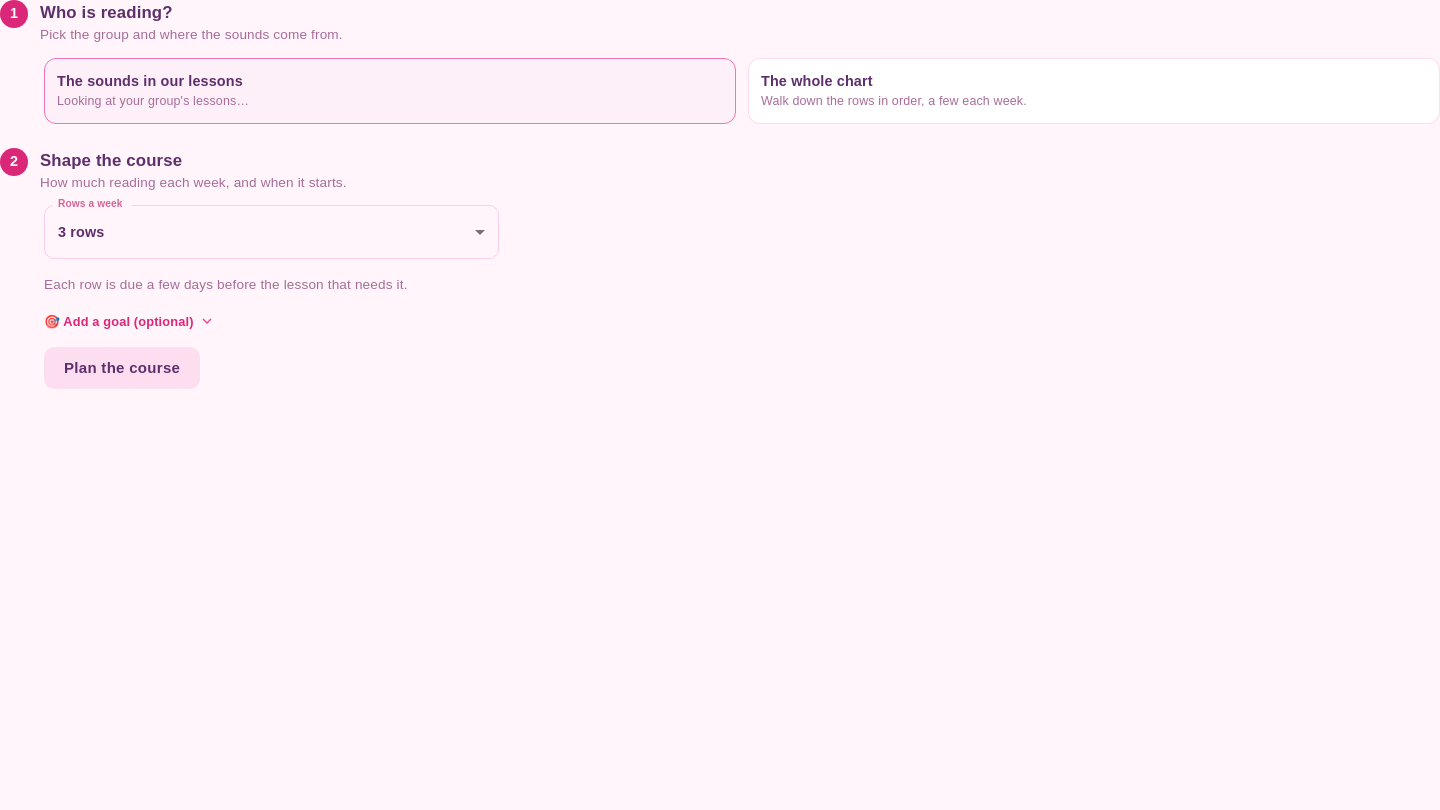
Scenario: KanaCourseBuilder › plans the weeks the educator asked for and lets a week be switched off
This screenshot has width=1440, height=810.
Click the text "The whole chart" at (817, 81), box top-left (761, 73), bottom-right (873, 89)
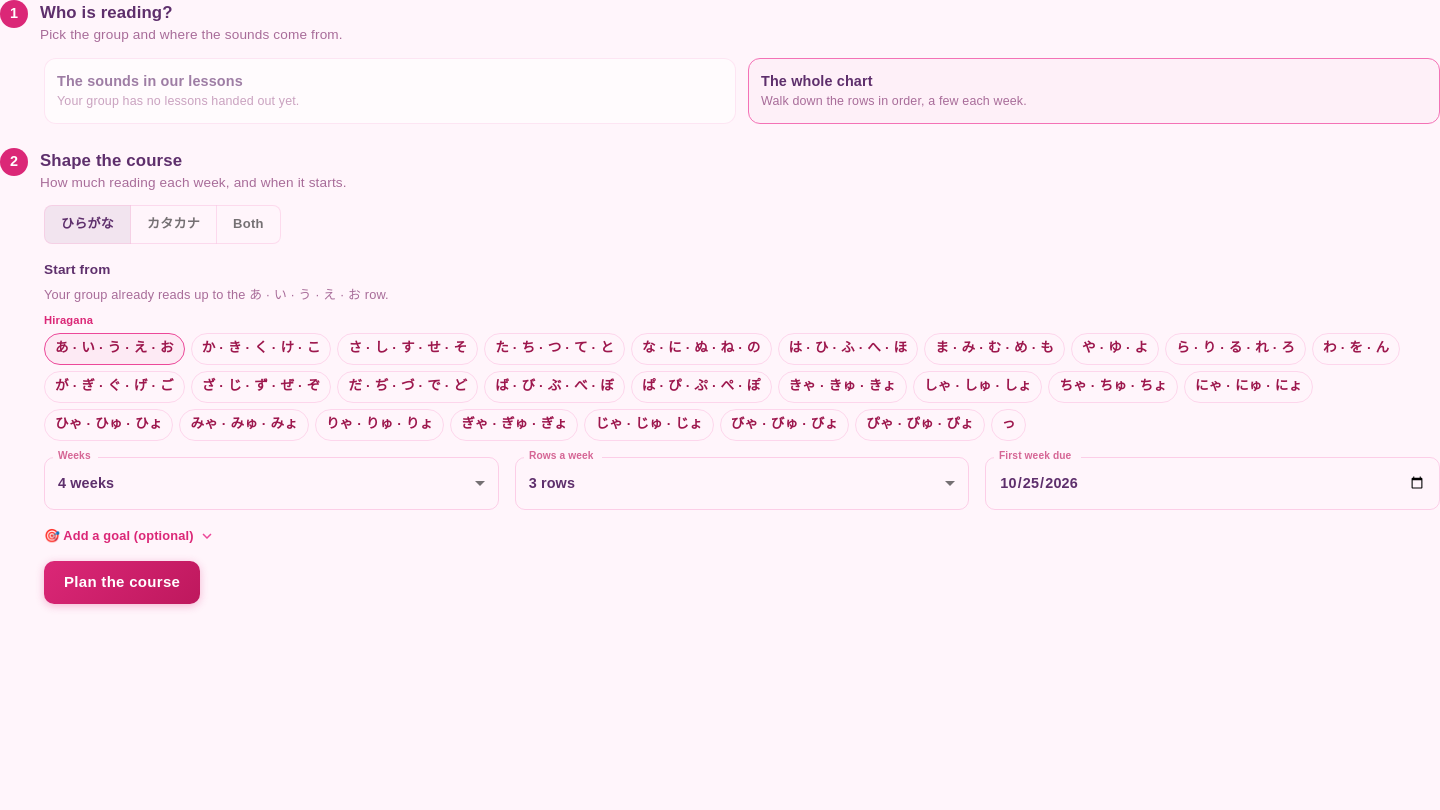
Click the button "Plan the course" at (122, 583), box top-left (44, 562), bottom-right (200, 604)
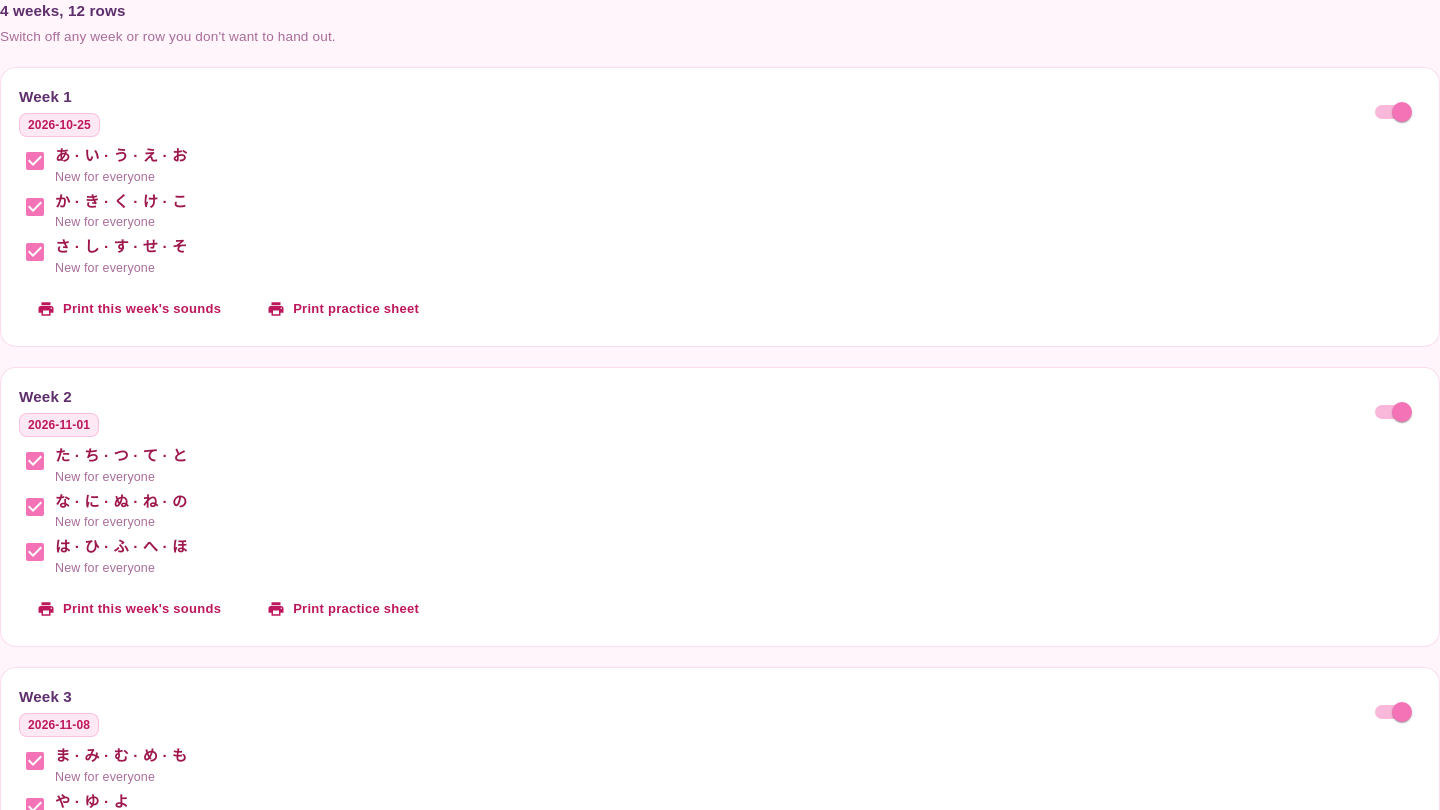
Now the heading "4 weeks, 12 rows" is shown, box top-left (0, 2), bottom-right (126, 19)
Now the text "Week 1" is shown, box top-left (19, 88), bottom-right (72, 105)
Click the switch named "Include week 1" at (1402, 112), box top-left (1392, 102), bottom-right (1412, 122)
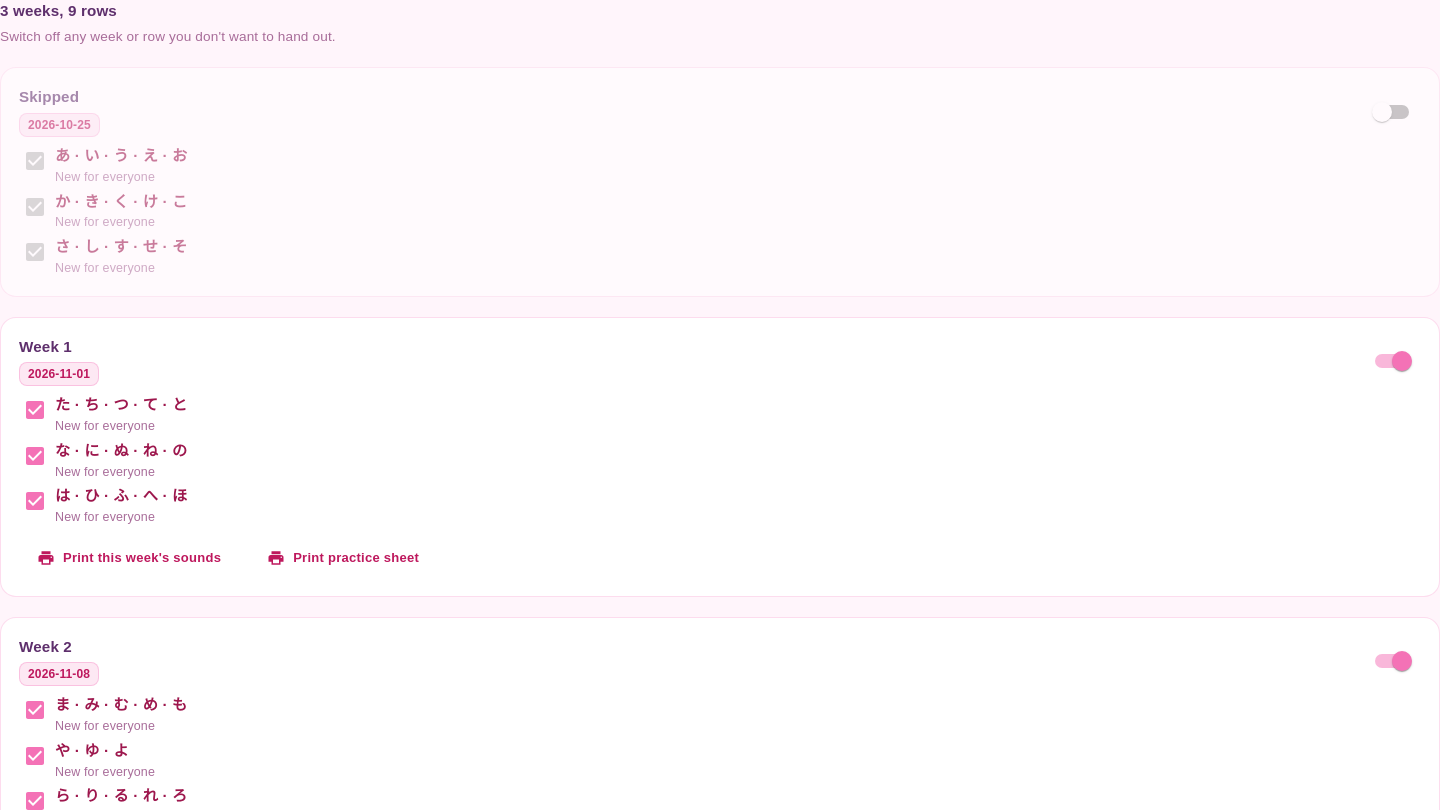
Now the text "Week 1" is shown 3 times
Now the heading "3 weeks, 9 rows" is shown, box top-left (0, 2), bottom-right (117, 19)
Now the text "Skipped" is shown, box top-left (19, 88), bottom-right (79, 105)
